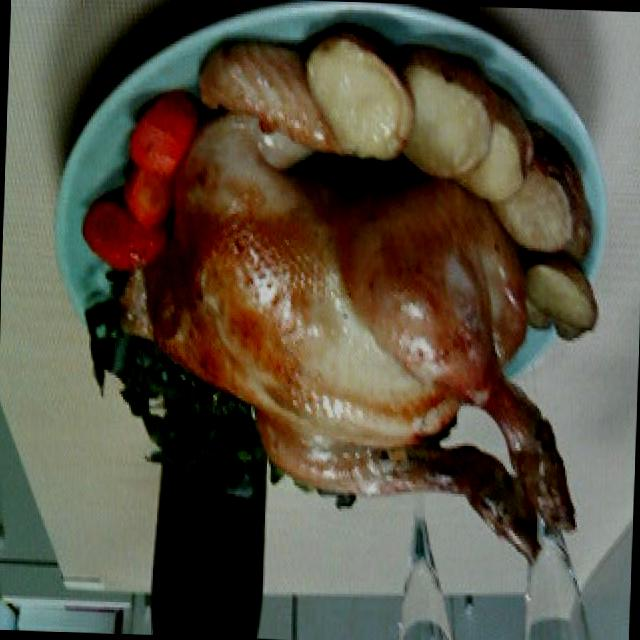Chicken: (106, 137, 534, 524)
